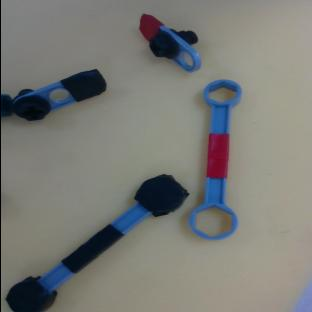part_1_bad: (6, 59, 109, 128)
part_1_good: (128, 8, 212, 76)
part_3_bad: (0, 164, 191, 312)
part_3_good: (188, 78, 250, 242)
